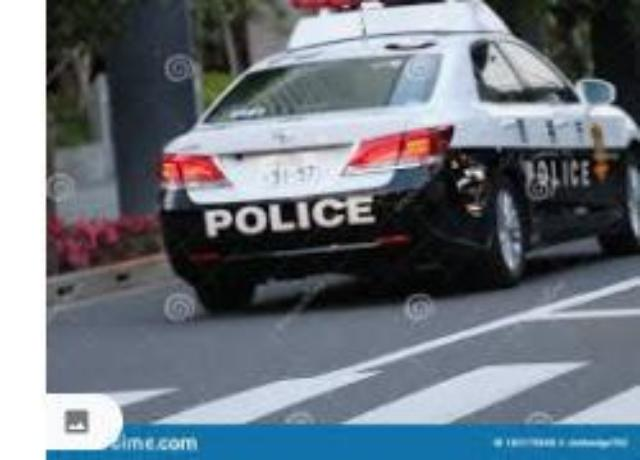police_car: (156, 0, 640, 315)
